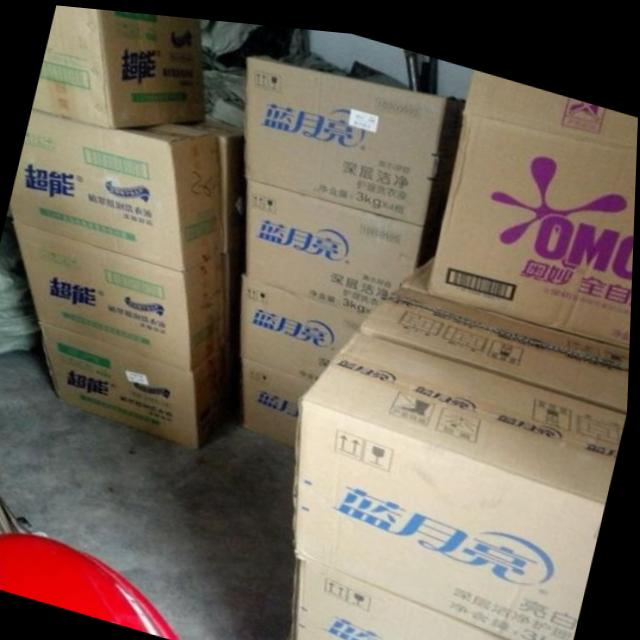box: (295, 324, 629, 640), (429, 60, 638, 336), (362, 247, 632, 402), (246, 50, 465, 219), (13, 107, 225, 268), (14, 218, 230, 366), (42, 320, 236, 444), (248, 174, 424, 307), (295, 549, 544, 640), (33, 4, 208, 126), (242, 272, 372, 374), (180, 115, 248, 247), (244, 353, 317, 442)
